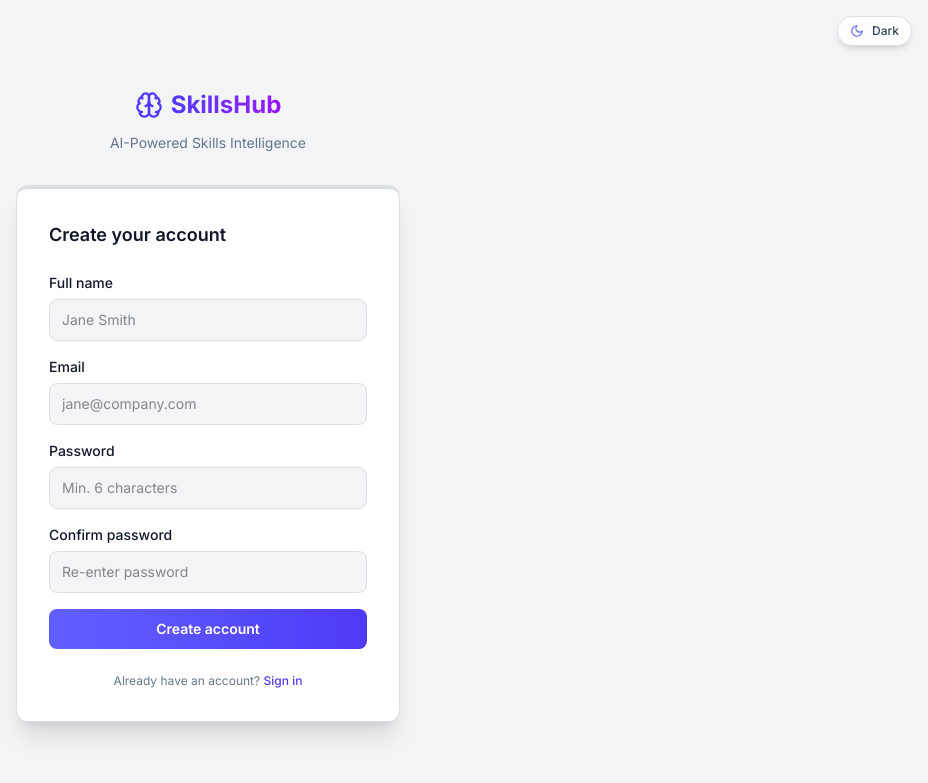
Test: RegisterPage › shows API error message when registration fails
The width and height of the screenshot is (928, 783).
Step 1. Type "Existing" into the field with placeholder "Jane Smith" → x=208, y=320, box [49,298,367,340]
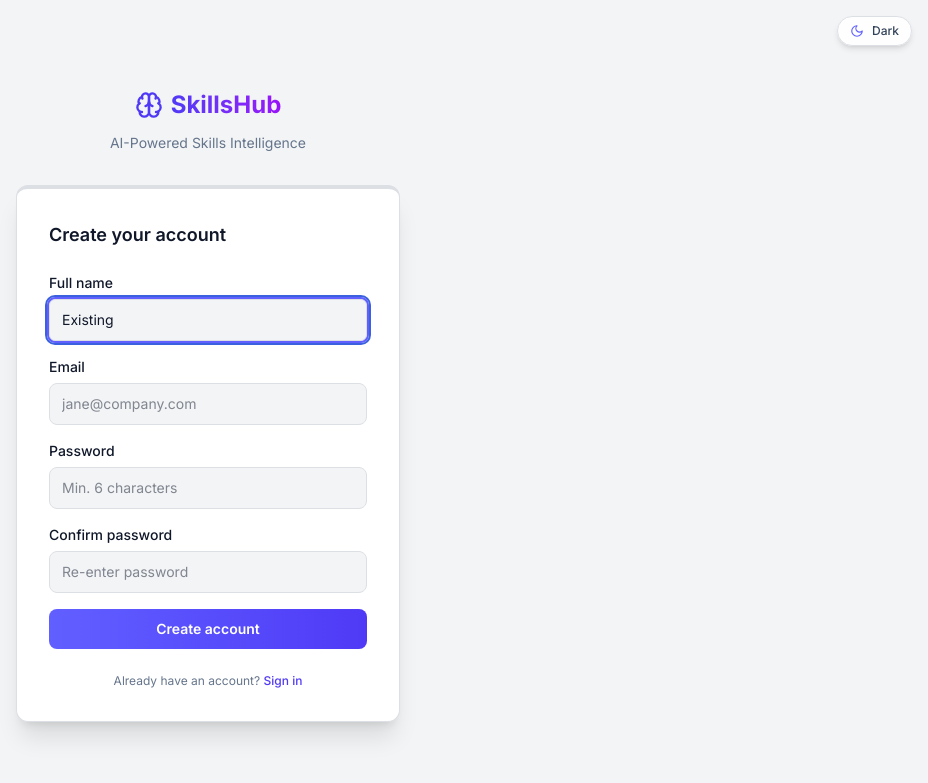
Step 2. Type "existing@demo.com" into the field with placeholder "jane@company.com" → x=208, y=404, box [49,382,367,424]
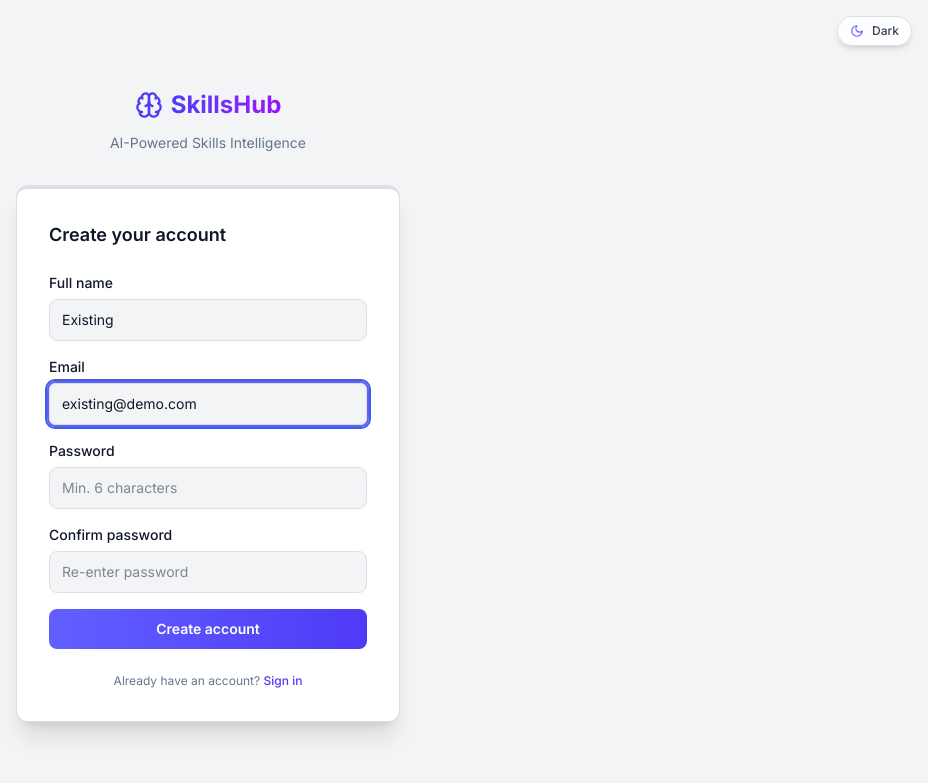
Step 3. Type "pass123" into the password field with placeholder "Min. 6 characters" → x=208, y=488, box [49,466,367,508]
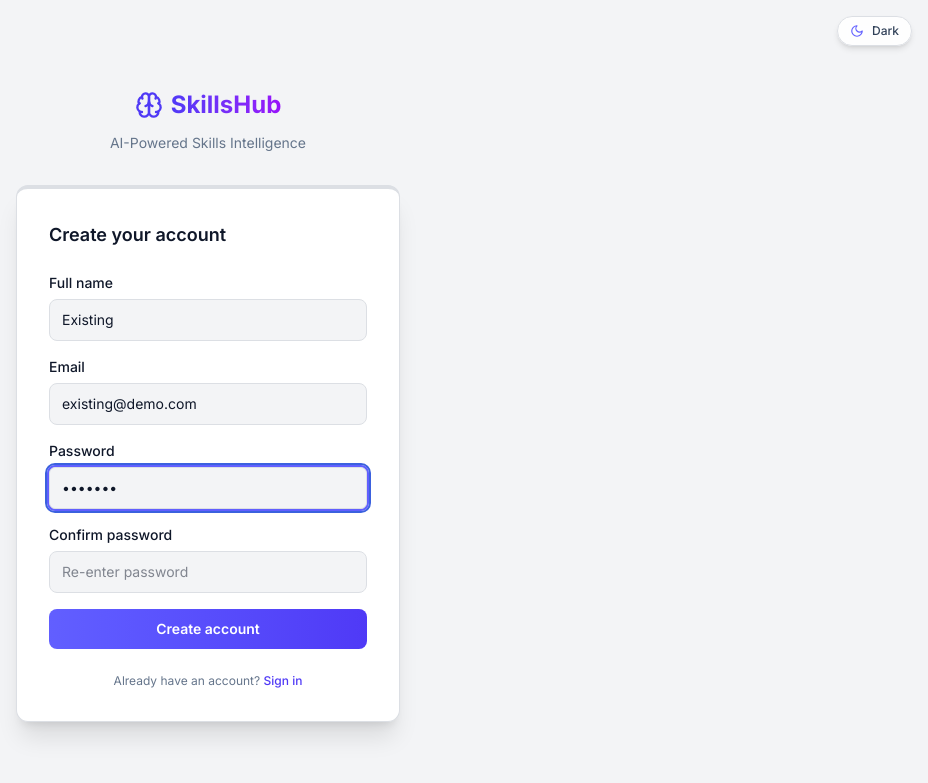
Step 4. Type "pass123" into the password field with placeholder "Re-enter password" → x=208, y=572, box [49,550,367,592]
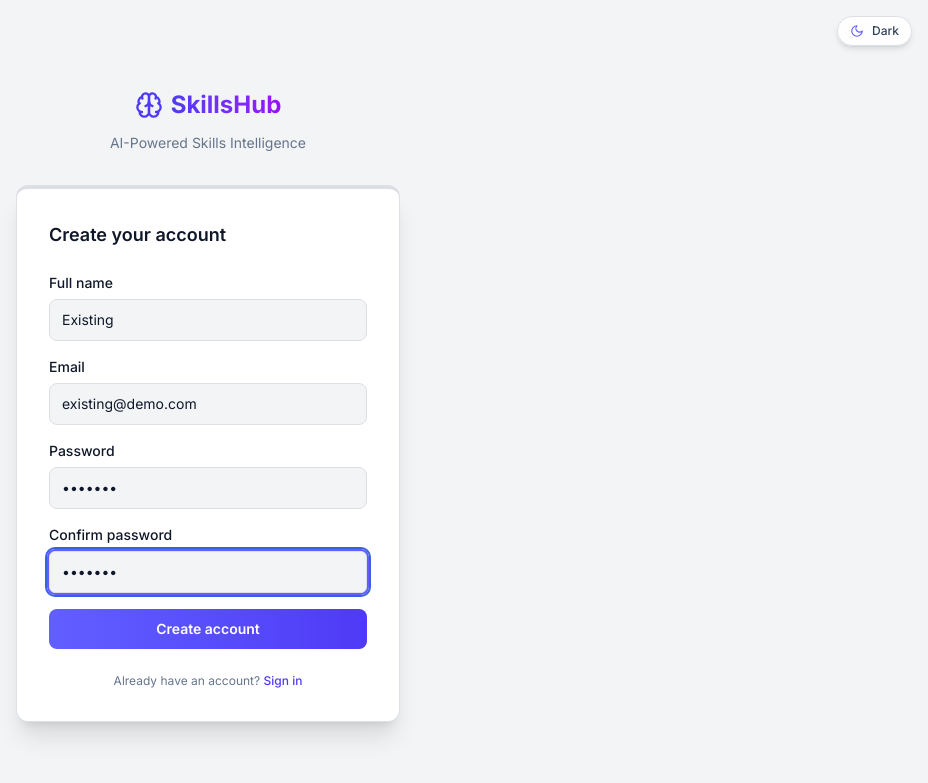
Step 5. Submit the form "Full name Email Password Confirm password Create account", box [49,272,367,648]
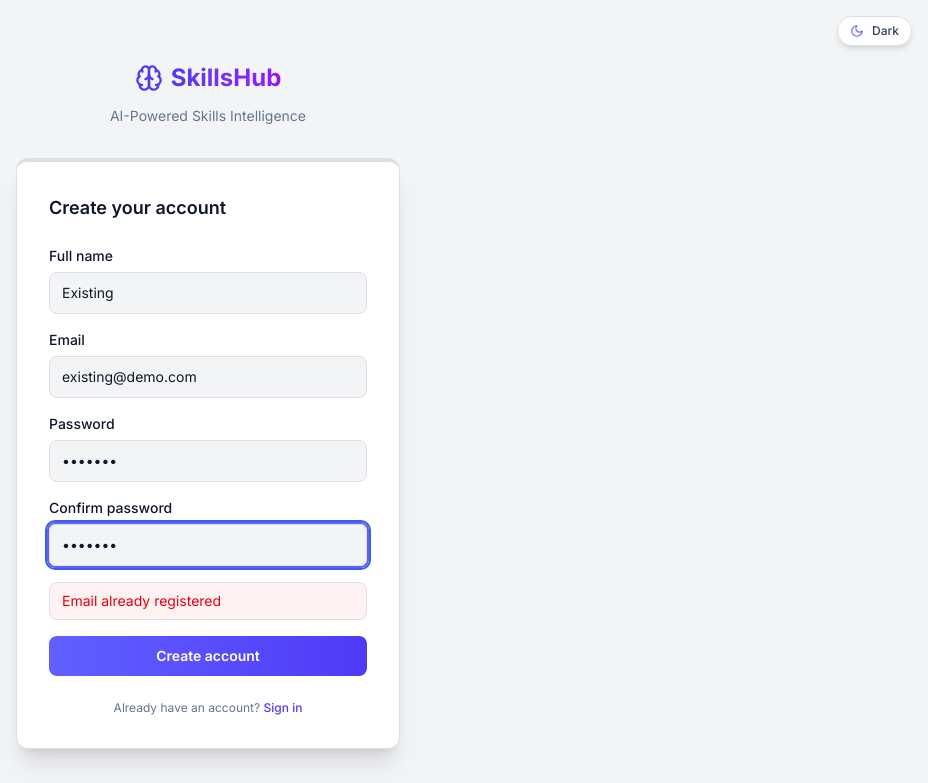
Now the text "Email already registered" is shown, box [49,582,367,620]
